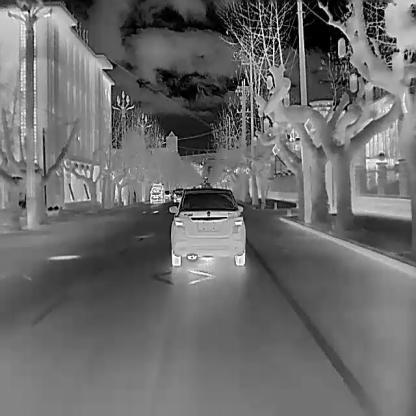car: (170, 187, 245, 265), (149, 182, 164, 202), (173, 187, 182, 201), (163, 190, 170, 199)
